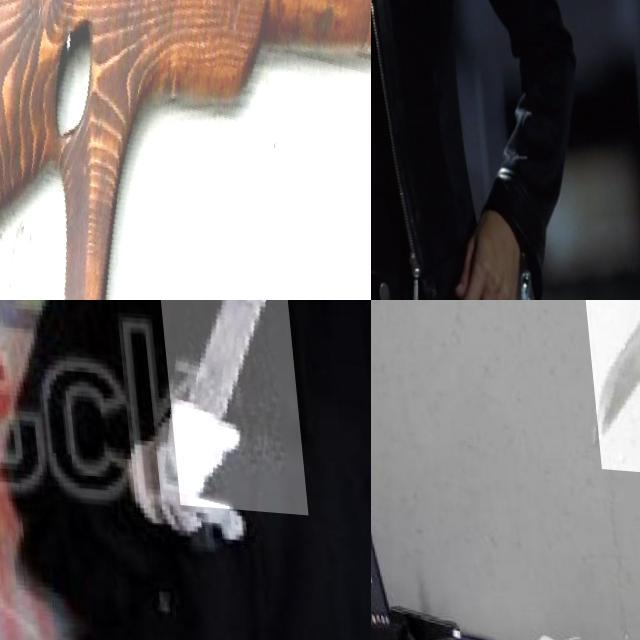-: (143, 300, 298, 509), (570, 300, 640, 474)
gun-knife-thesis - v11 Yolov5 augmented: (0, 0, 371, 300), (371, 122, 444, 300)
